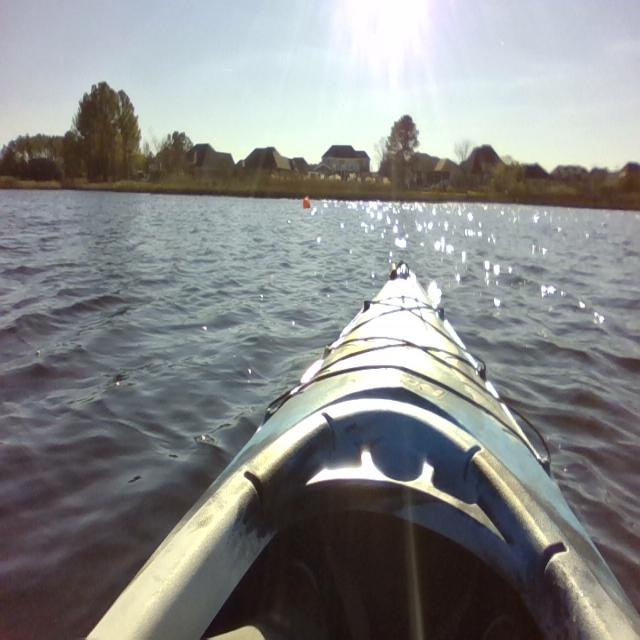Buoy: (299, 192, 314, 216)
